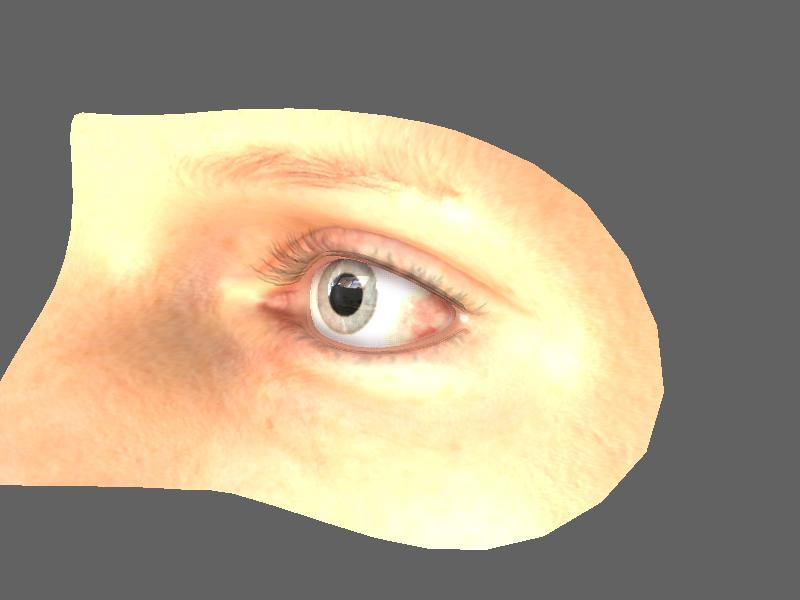iris: (316, 266, 382, 330)
